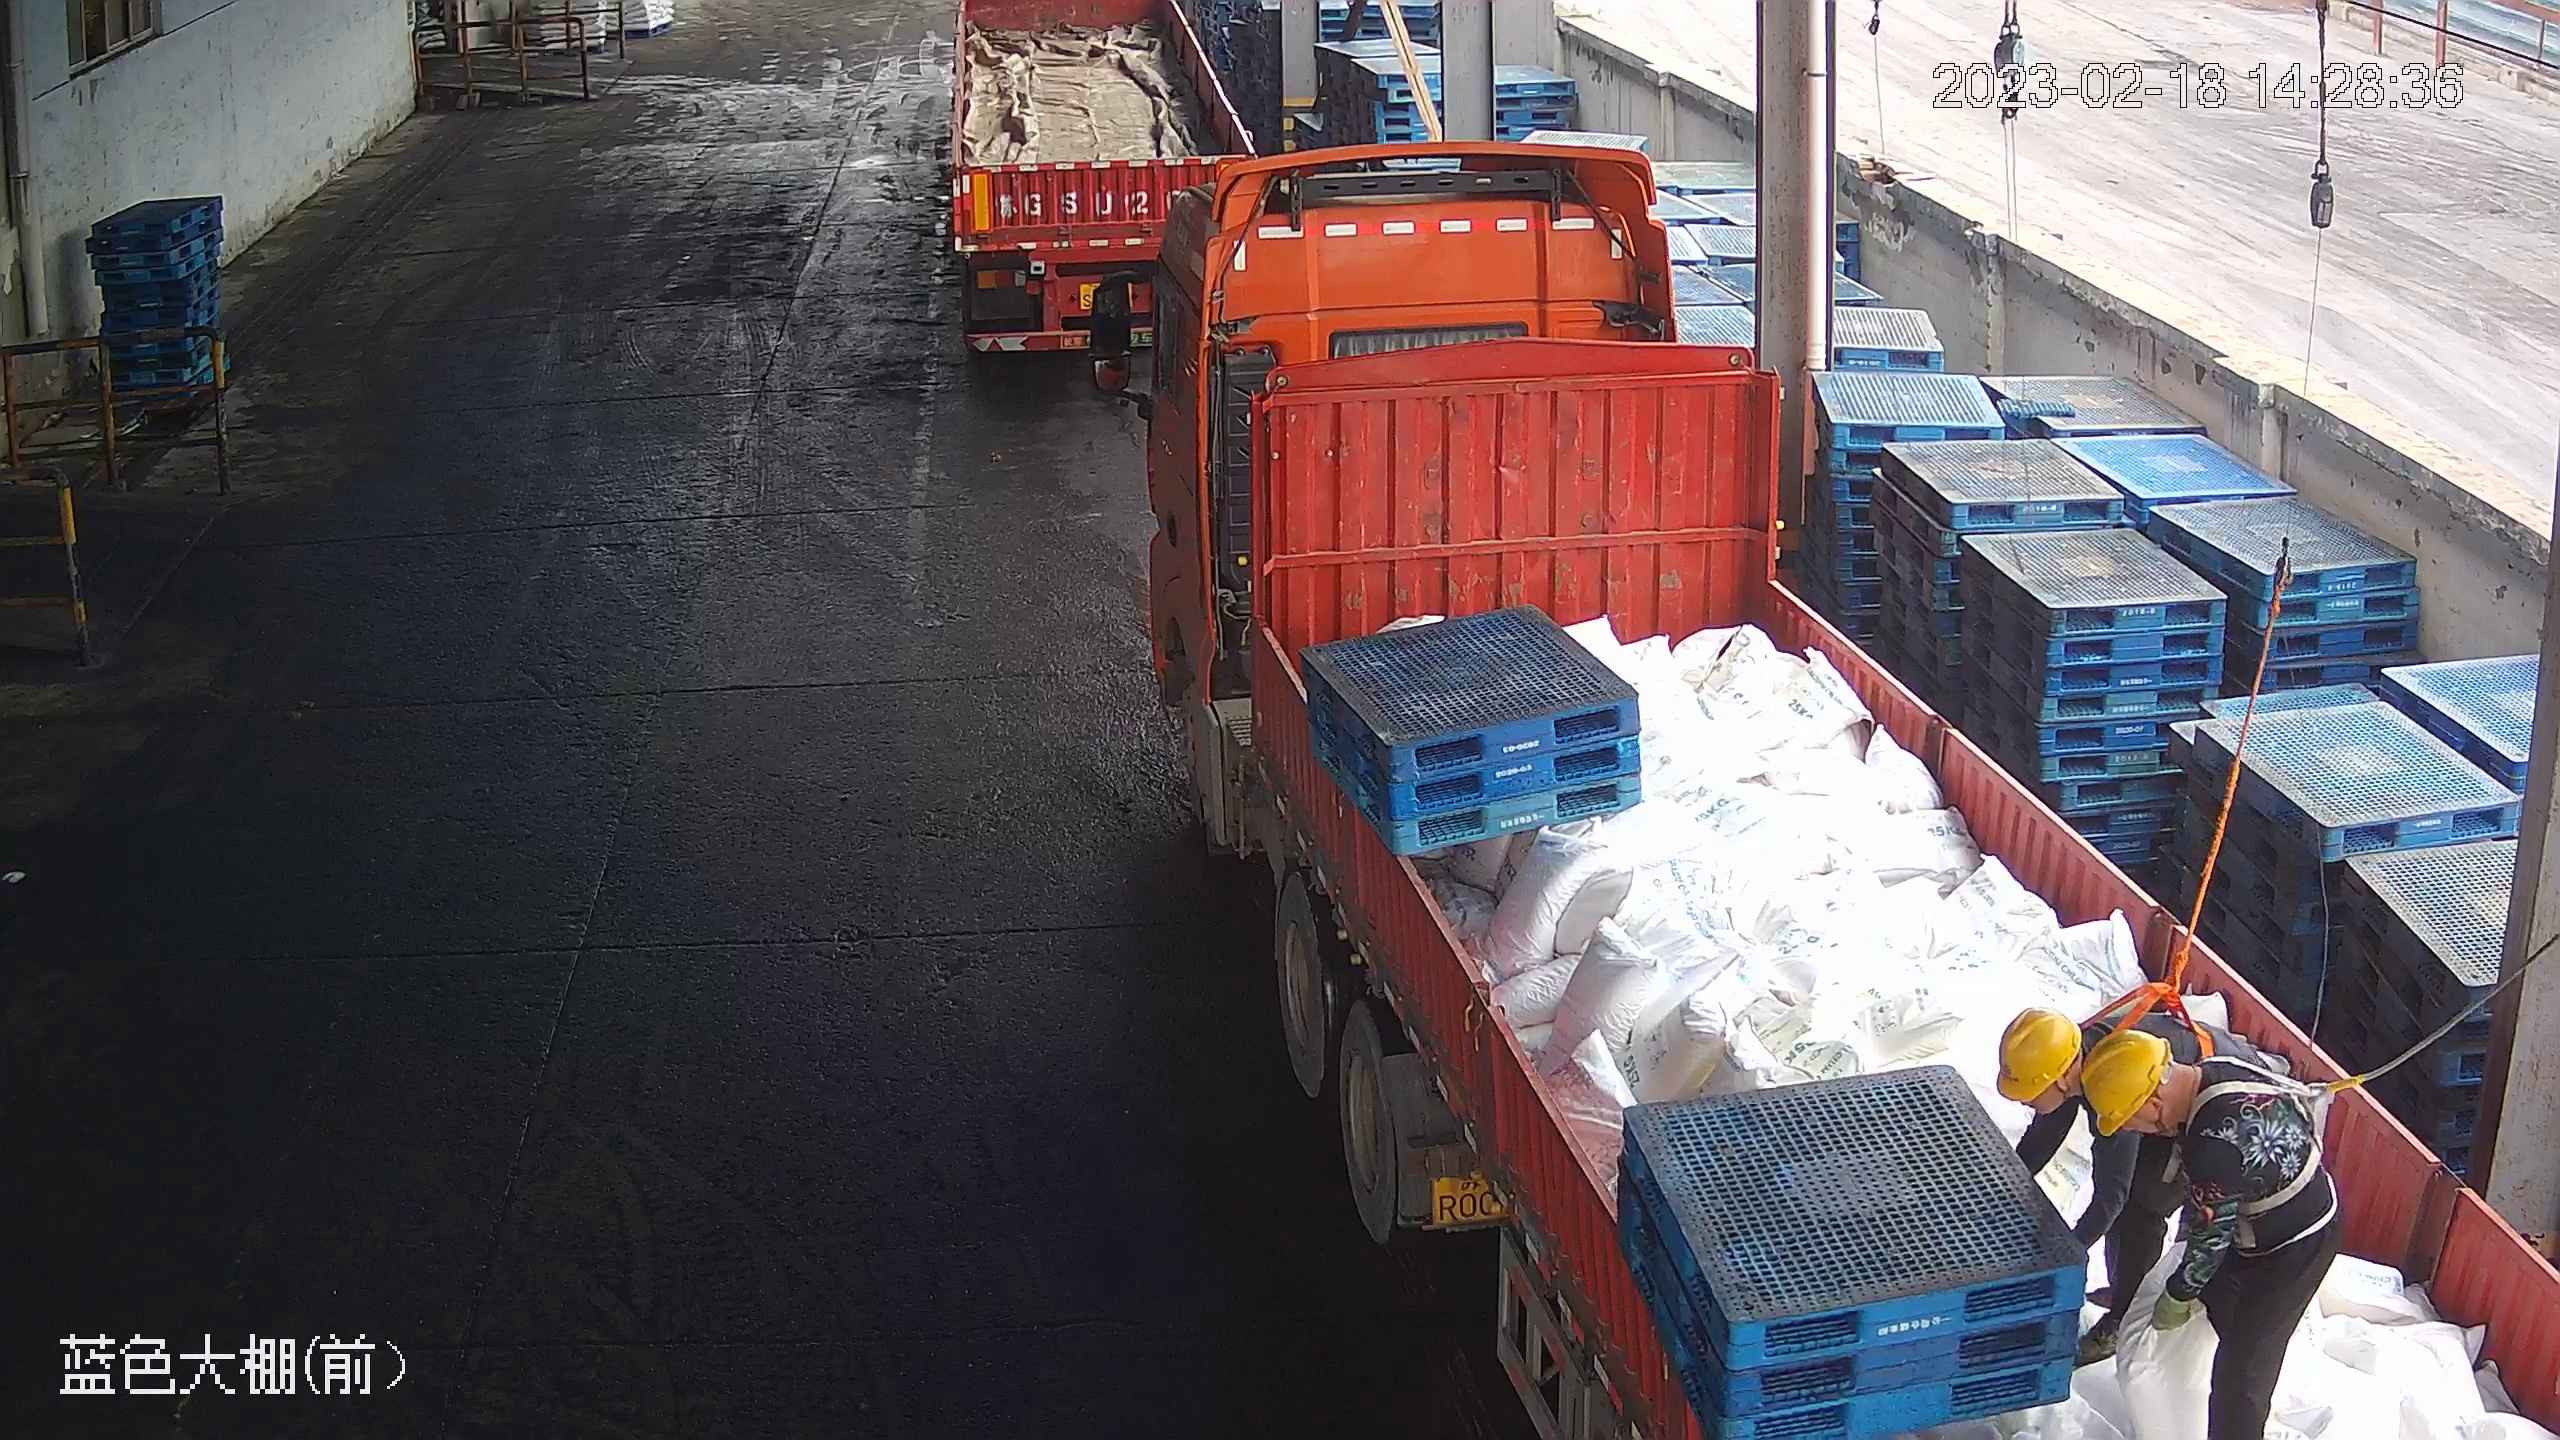belt: (2170, 1059, 2353, 1230), (2079, 975, 2215, 1057)
head: (2088, 1020, 2278, 1184), (1994, 993, 2184, 1128)
helmet: (2083, 1033, 2167, 1137), (1996, 1005, 2078, 1107)
people: (2074, 1027, 2343, 1439), (1992, 987, 2196, 1363)
truck: (1089, 135, 2553, 1440), (946, 1, 1261, 359)
